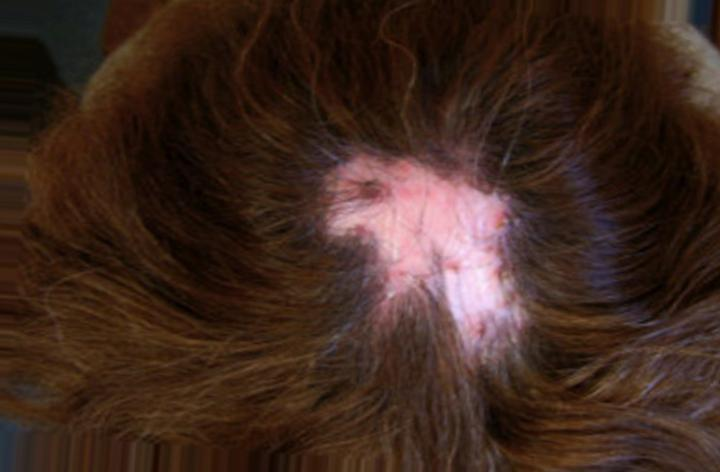Folliculitis: (319, 120, 548, 371)
